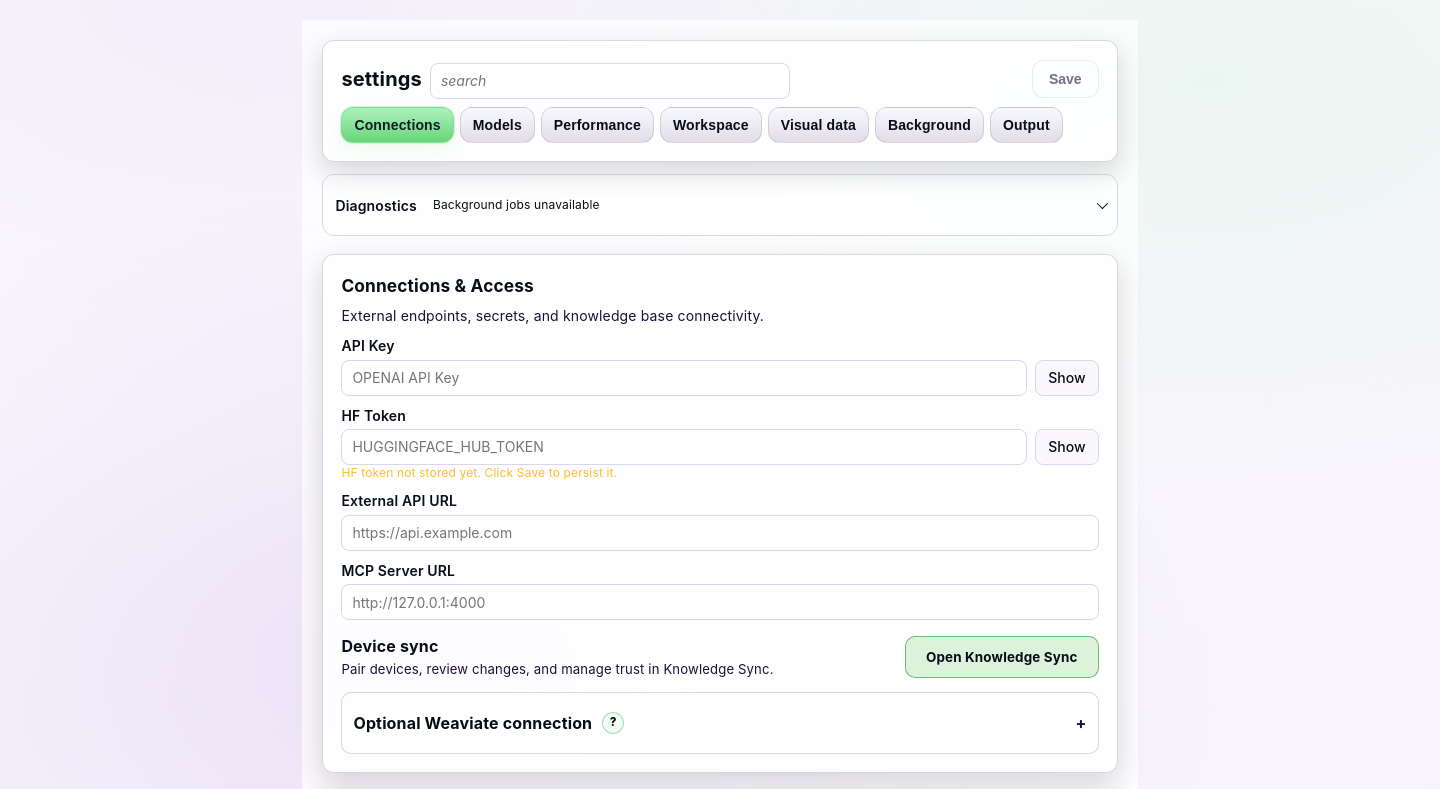
Test: Settings tools browser › narrows settings sections through search and restores them when cleared
The width and height of the screenshot is (1440, 789).
Check: the button with aria-label "visual data." is shown, box [768,107,869,143]
Type "live transcript" into the search field named "search settings" at (610, 81), box [430,63,790,99]
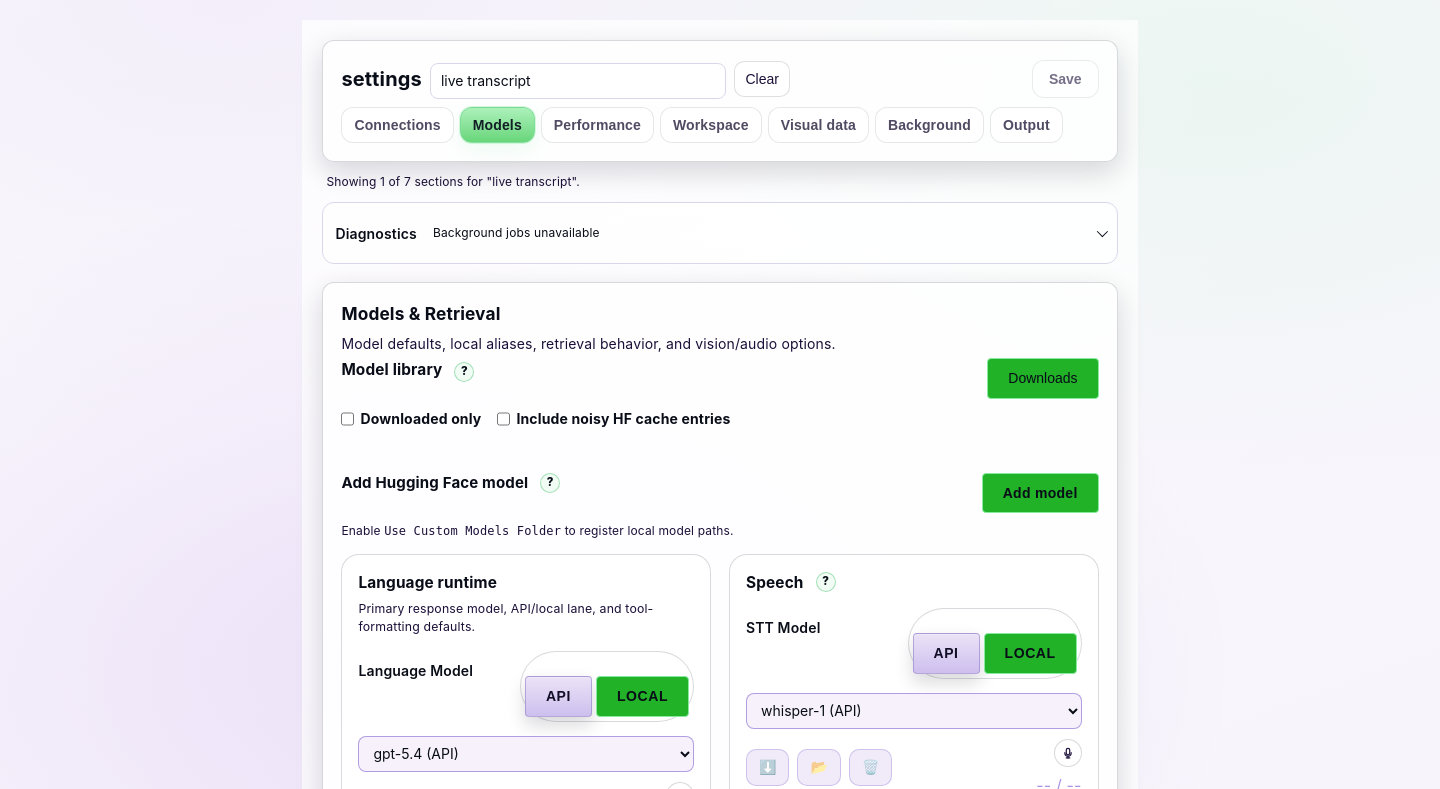
Check: the heading "Models & Retrieval" is shown, box [341,303,500,324]
Check: the text "Showing 1 of 7 sections for \"live transcript\"." is shown, box [326,174,580,189]
Click the button with aria-label "clear search" at (762, 79), box [734,61,790,97]
(page scrolled)
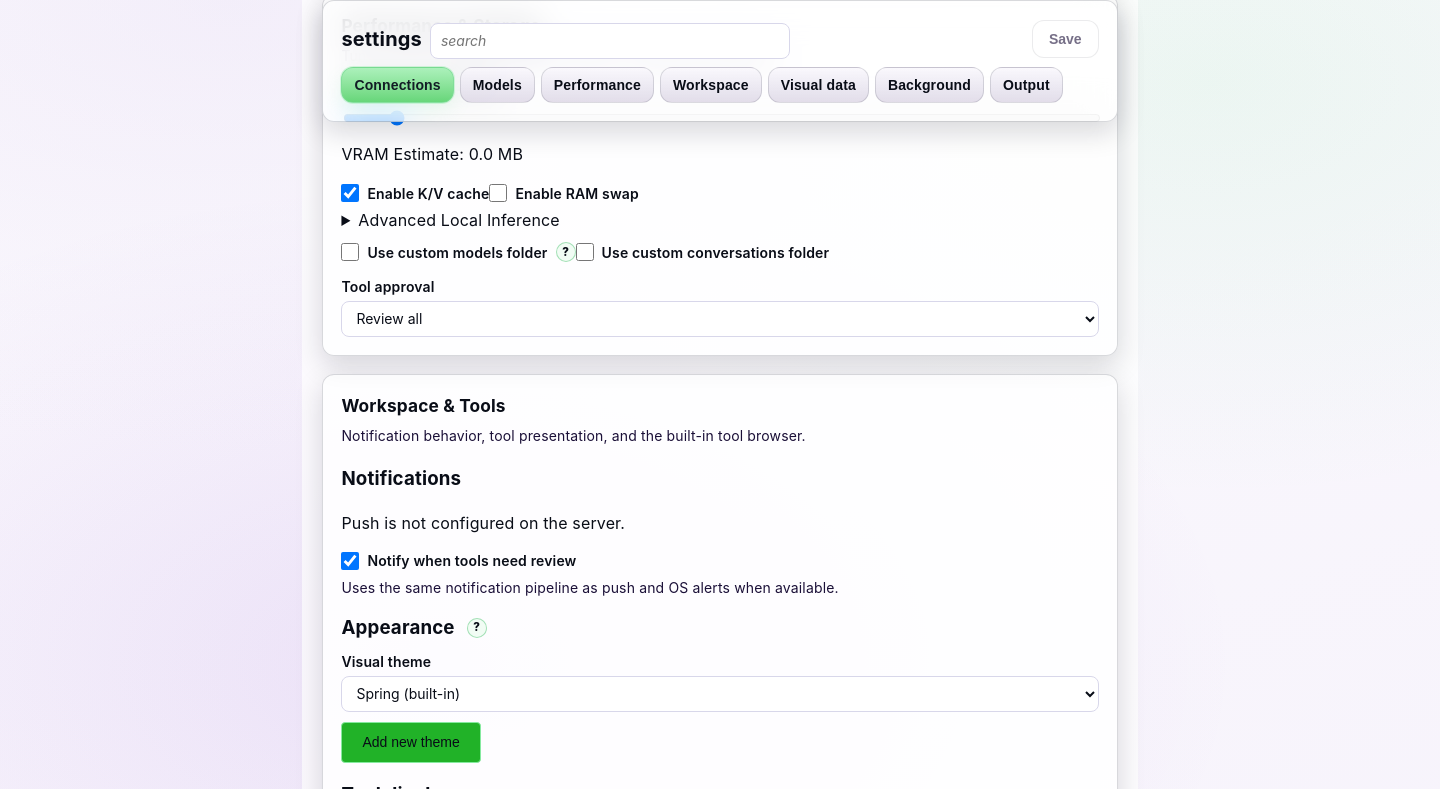
Check: the heading "Workspace & Tools" is shown, box [341,395,506,416]
